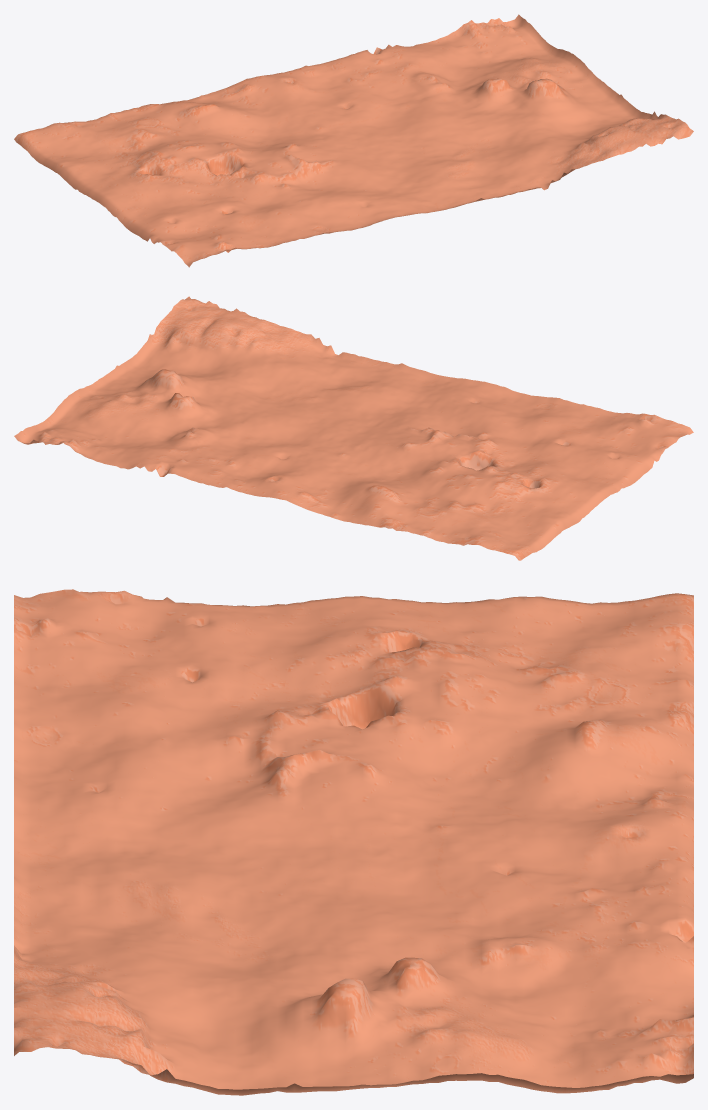
The model's file is CerberusTholi.fbx.
3 renders of one model, top to bottom at view 1: azimuth 30°, elevation 25°; view 2: azimuth 150°, elevation 25°; view 3: azimuth 270°, elevation 25°, orthographic. The views are drawn at different scales.
Visible parts, largest first — view 1: Plane003; view 2: Plane003; view 3: Plane003.
Part boxes in pixels (x1=…): Plane003: x1=14, y1=14, x2=693, y2=267; Plane003: x1=14, y1=296, x2=693, y2=560; Plane003: x1=14, y1=589, x2=693, y2=1095.
Bounding box in the file's own units: 12044 × 658 × 7240.
1 material, 1 textured.
